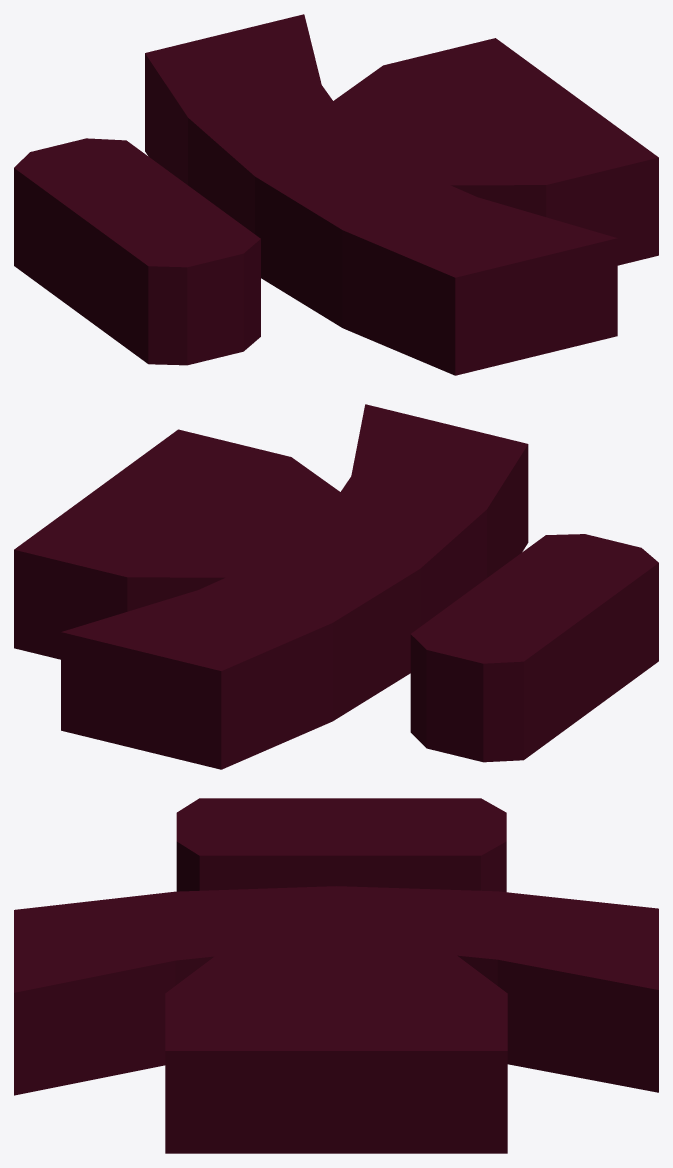
Rendered from sym_dude.fbx.
3 views of the same model, one above another, from view 1: azimuth 30°, elevation 25°; view 2: azimuth 150°, elevation 25°; view 3: azimuth 270°, elevation 25° (orthographic). The views are drawn at different scales.
Visible parts, largest first — view 1: Dude; view 2: Dude; view 3: Dude.
Boxes of the visible parts, box(x1,y1,x2,y2) form: Dude: box(14, 14, 658, 375); Dude: box(14, 404, 658, 769); Dude: box(14, 798, 658, 1153).
Bounding box in the file's own units: 349 × 66.24 × 377.
